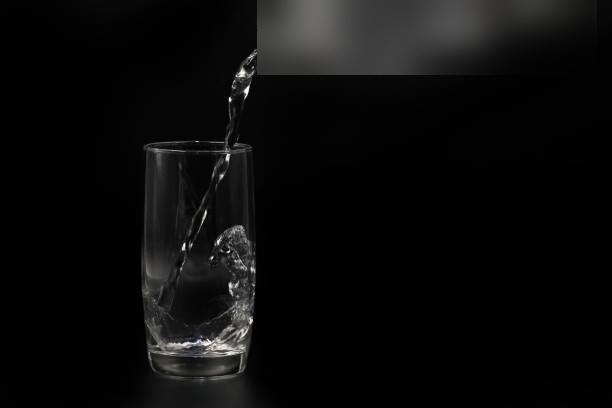glass-normal: (139, 138, 258, 381)
